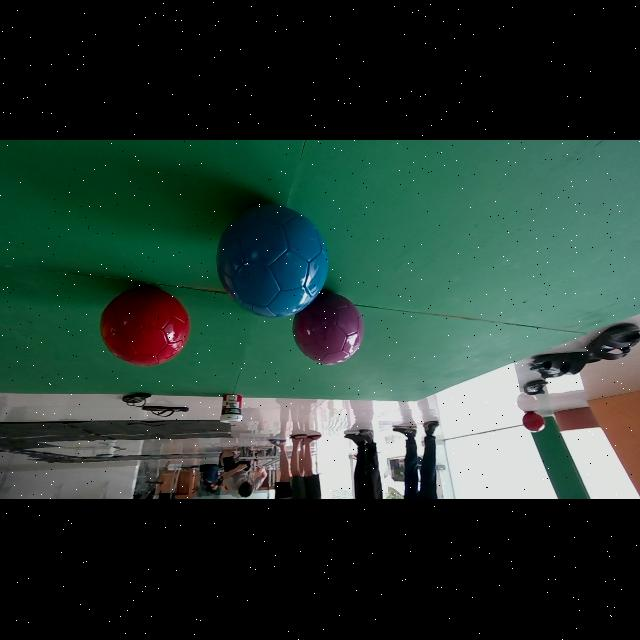B: (217, 205, 328, 319)
P: (293, 293, 363, 365)
R: (101, 287, 190, 367), (523, 412, 545, 434)
